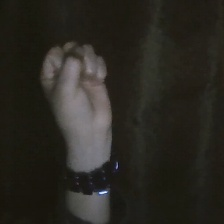S: (32, 33, 128, 149)
